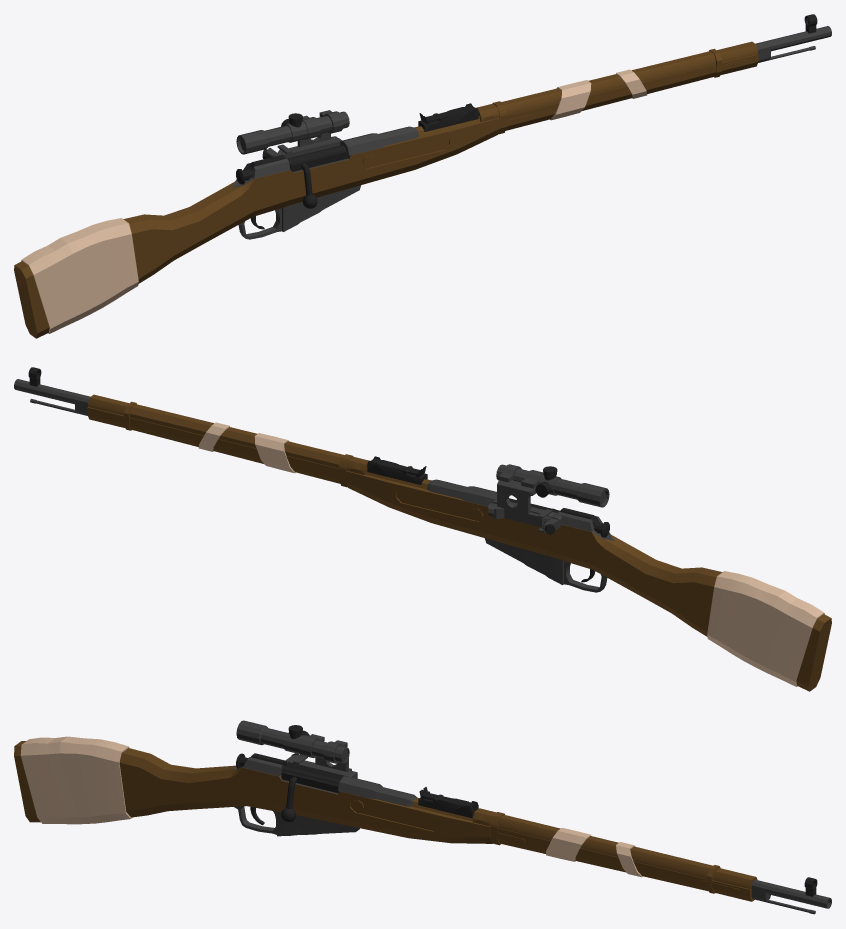
Rendered from Mosin_Sniper.fbx.
3 views of the same model, one above another, from view 1: azimuth 30°, elevation 25°; view 2: azimuth 150°, elevation 25°; view 3: azimuth 330°, elevation 25° (orthographic).
Parts seen in each view (by area): view 1: Body_Rifle; view 2: Body_Rifle; view 3: Body_Rifle.
Boxes of the visible parts, x1,y1,x2,y2 form: Body_Rifle: [14, 14, 831, 338]; Body_Rifle: [14, 367, 831, 691]; Body_Rifle: [14, 720, 831, 914].
Size of the model in its own units: 130 by 8.92 by 23.9.
